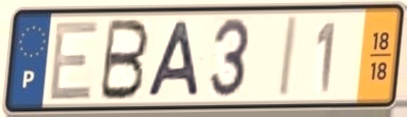1: (314, 19, 337, 94)
3: (208, 15, 252, 101)
A: (144, 18, 203, 100)
B: (96, 17, 152, 103)
E: (46, 18, 101, 103)
I: (276, 14, 301, 101)
